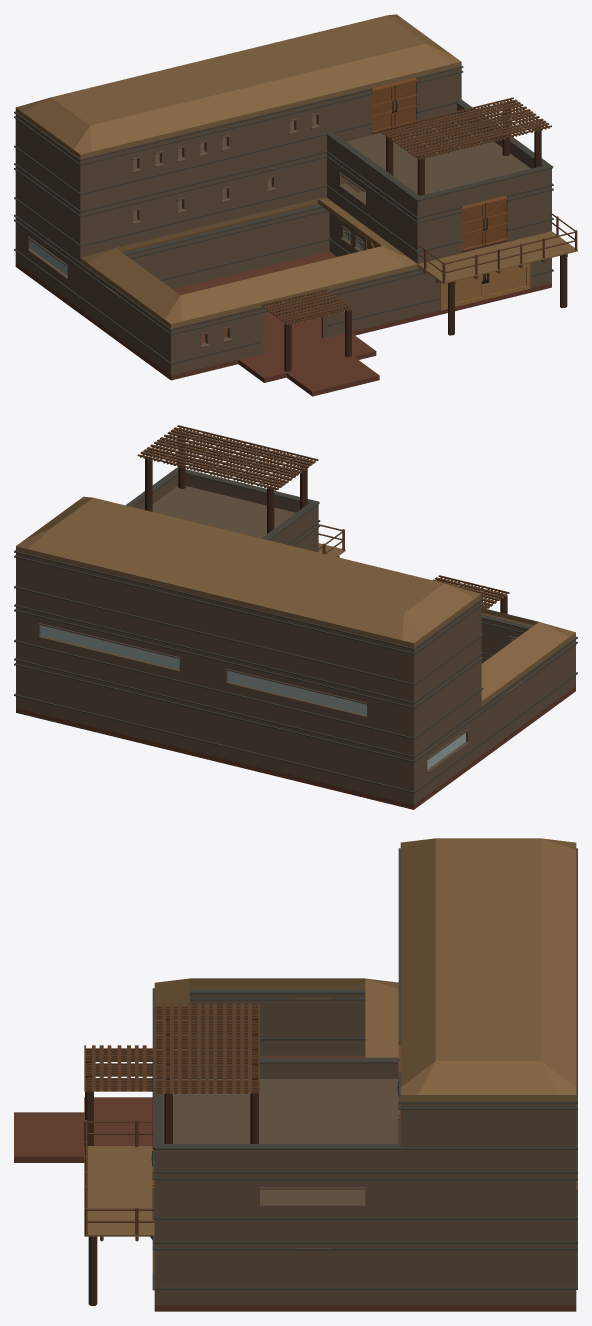
File: casa 5.fbx
3 views of the same model, one above another, from view 1: azimuth 30°, elevation 25°; view 2: azimuth 150°, elevation 25°; view 3: azimuth 270°, elevation 25° (orthographic). The views are drawn at different scales.
Visible parts, largest first — view 1: Cube.128; view 2: Cube.128; view 3: Cube.128.
Boxes of the visible parts, x1,y1,x2,y2 form: Cube.128: (14, 14, 577, 396); Cube.128: (14, 425, 577, 809); Cube.128: (14, 838, 577, 1311).
Size of the model in its own units: 3420 by 1480 by 3210.
